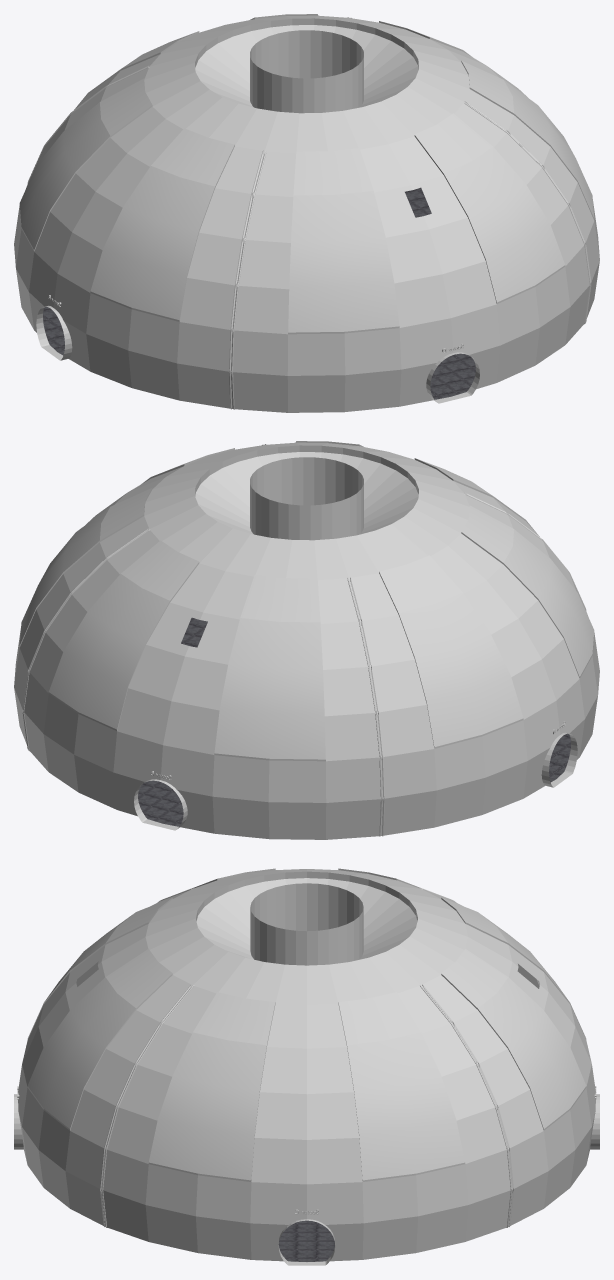
Rendered from Cupola3.fbx.
The picture shows the model from 3 angles, top to bottom: view 1: azimuth 30°, elevation 25°; view 2: azimuth 150°, elevation 25°; view 3: azimuth 270°, elevation 25°; orthographic projection.
Parts seen in each view (by area): view 1: Arco, Vetri_001, Pavimento, Archi; view 2: Arco, Vetri_001, Pavimento, Archi; view 3: Arco, Vetri_001, Archi, Pavimento.
Part boxes in pixels (x1,y1,x2,y2): Arco: (14,14,599,412); Vetri_001: (19,31,594,332); Pavimento: (43,187,475,399); Archi: (27,17,591,409); Arco: (14,441,599,839); Vetri_001: (19,458,594,759); Pavimento: (138,617,570,826); Archi: (22,444,586,836); Arco: (14,868,599,1265); Vetri_001: (27,898,586,1180); Archi: (100,888,513,1227); Pavimento: (278,1220,334,1261).
Bounding box in the file's own units: 87.57 × 38.83 × 87.62.
